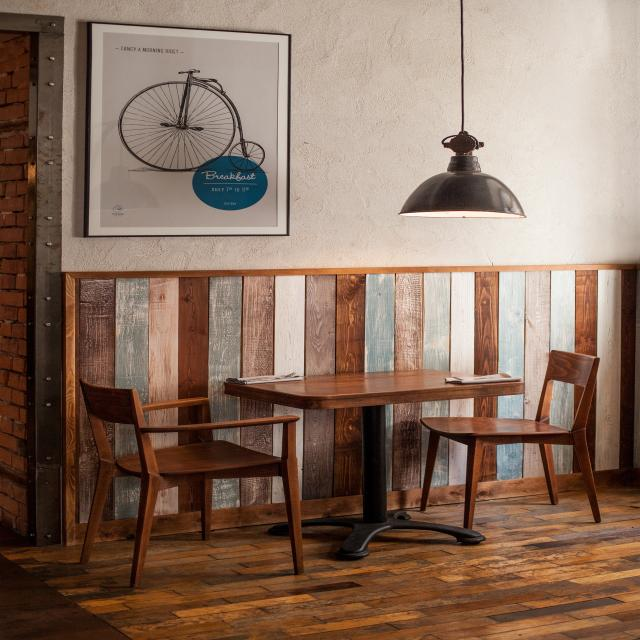floor: (0, 484, 640, 640), (398, 503, 463, 528), (330, 513, 364, 518)
